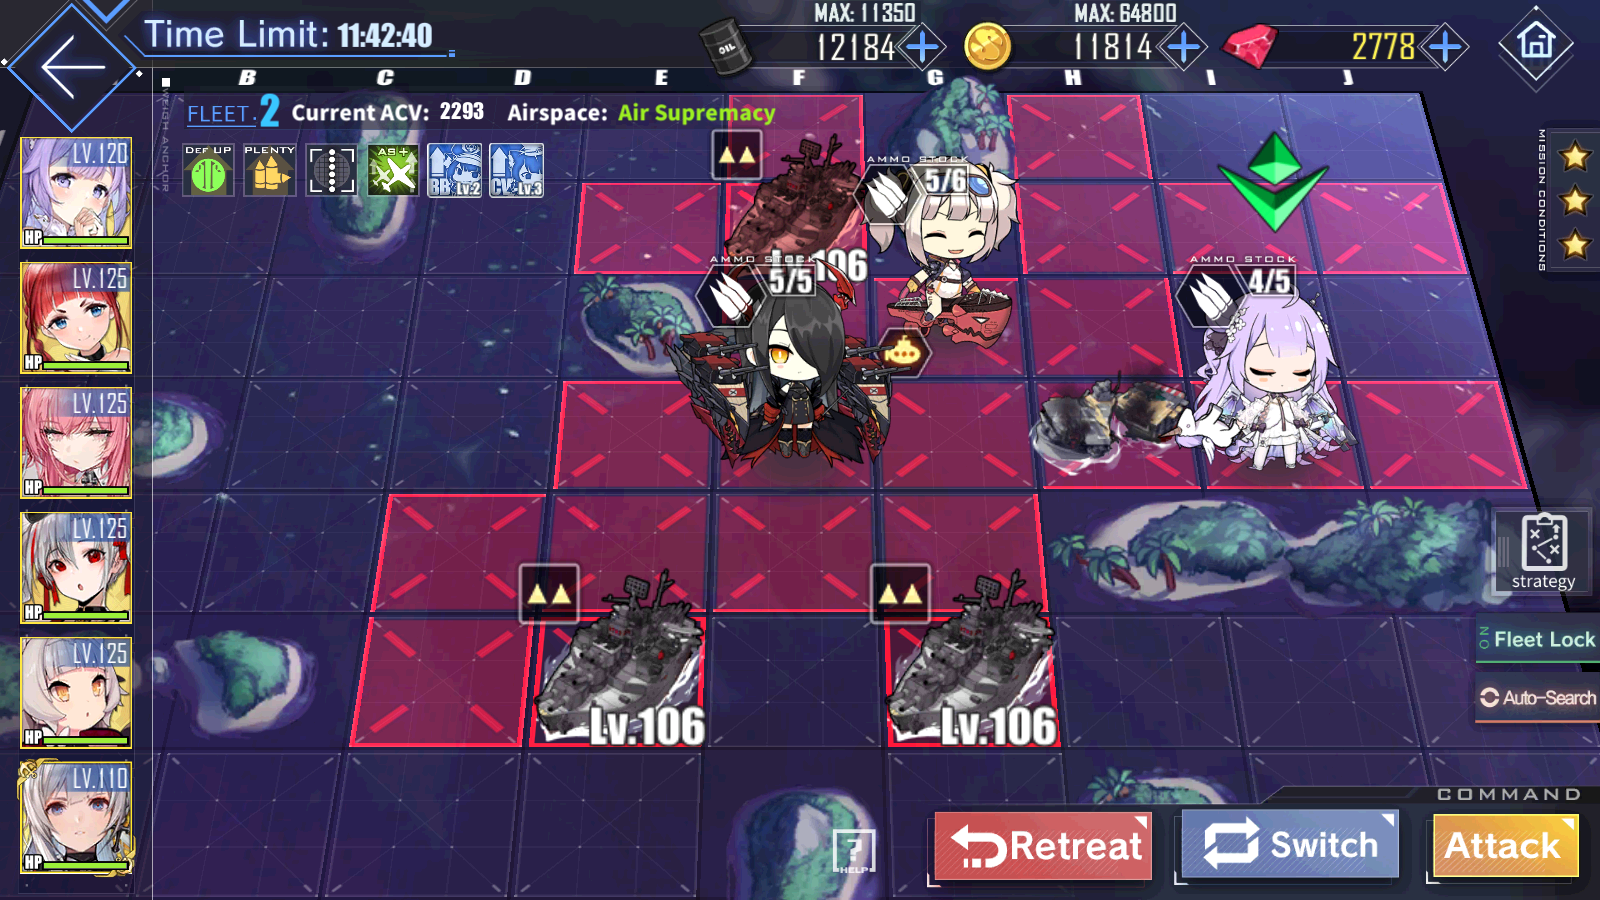ally: (1179, 134, 1358, 486), (675, 254, 892, 490), (849, 153, 1022, 354)
enemy: (869, 563, 1059, 748), (519, 564, 704, 746), (711, 130, 863, 279)
